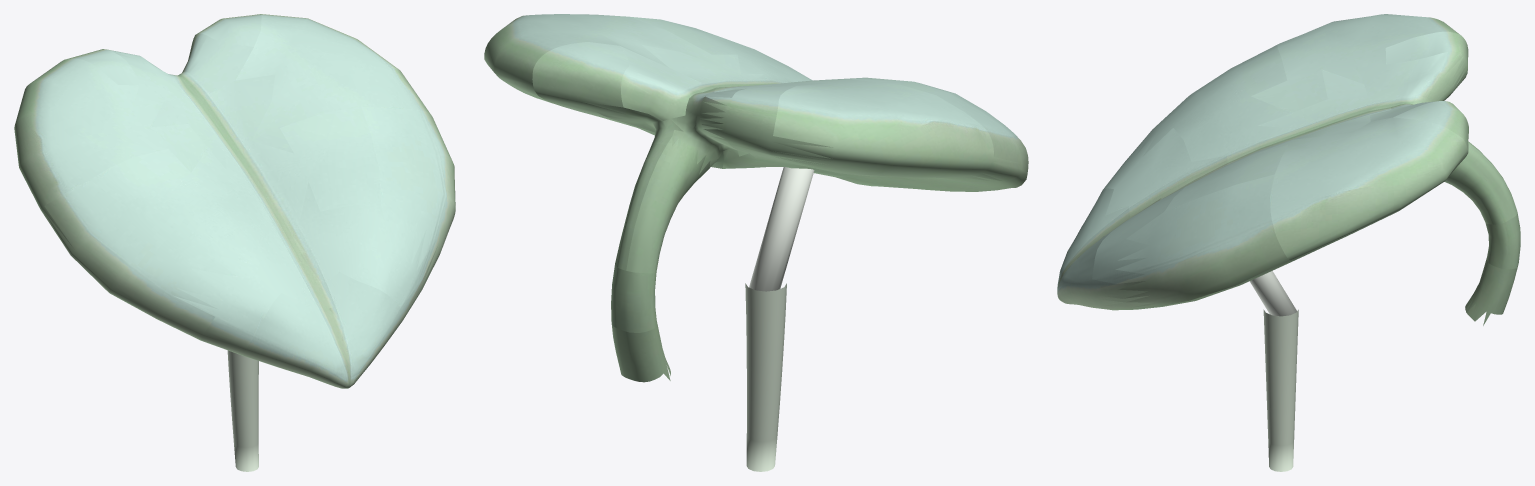
File: monstera_leaf_fullalbo_v2.glb
The picture shows the model from 3 angles, left to right: view 1: azimuth 30°, elevation 25°; view 2: azimuth 150°, elevation 25°; view 3: azimuth 270°, elevation 25°; orthographic projection. The views are drawn at different scales.
Parts seen in each view (by area): view 1: g1, g0; view 2: g1, g0, petiole_link; view 3: g1, g0, petiole_link.
Boxes of the visible parts, x1,y1,x2,y2 form: g1: (14, 14, 455, 388); g0: (227, 350, 258, 471); g1: (484, 14, 1028, 382); g0: (745, 283, 786, 471); petiole_link: (749, 167, 814, 291); g1: (1057, 14, 1520, 325); g0: (1263, 309, 1298, 471); petiole_link: (1249, 271, 1296, 316).
Bounding box in the file's own units: 2 × 1.85 × 2.
Materials: 3 (1 with a texture image).
